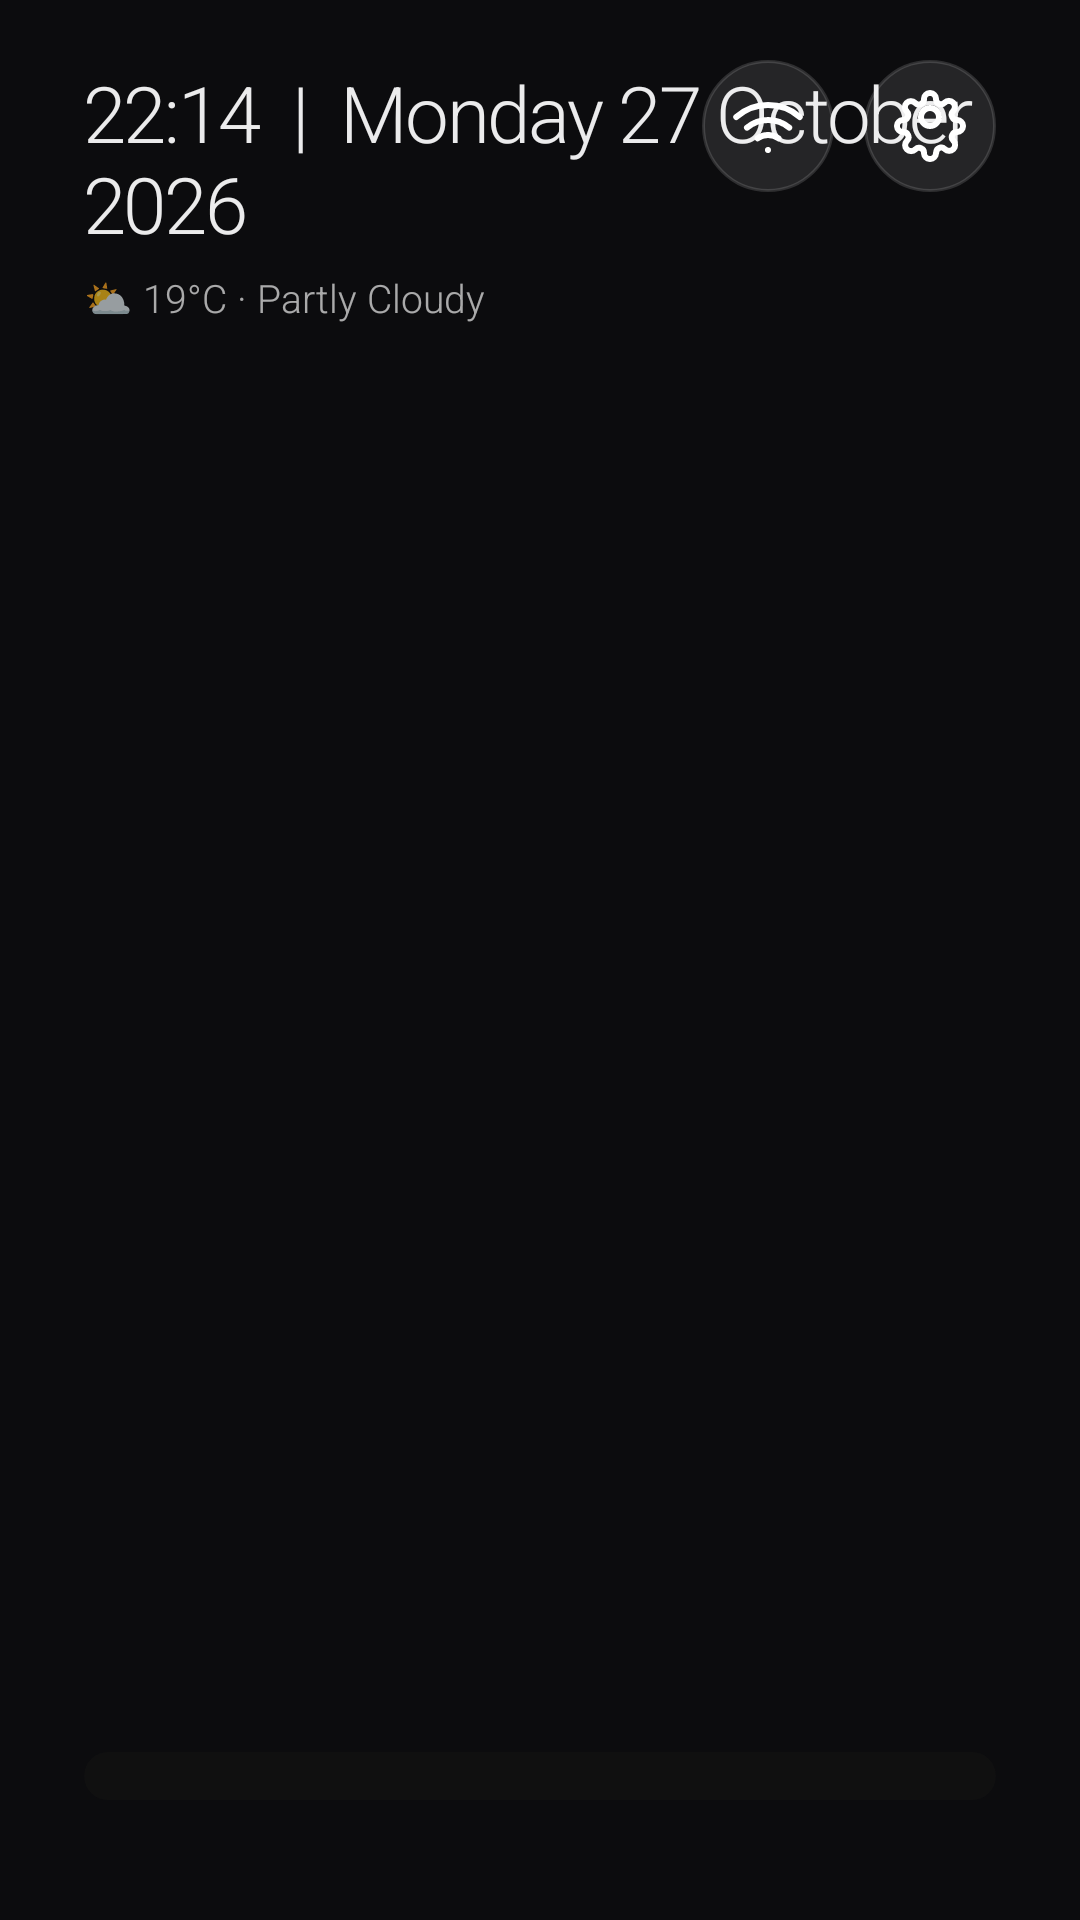

Where icons sit on this 1080*1920 app screen, as {"x1": x1, "y1": y1, "x2": x2, "y2": y2}:
Settings: {"x1": 864, "y1": 60, "x2": 996, "y2": 192}
wifi: {"x1": 702, "y1": 60, "x2": 834, "y2": 192}
